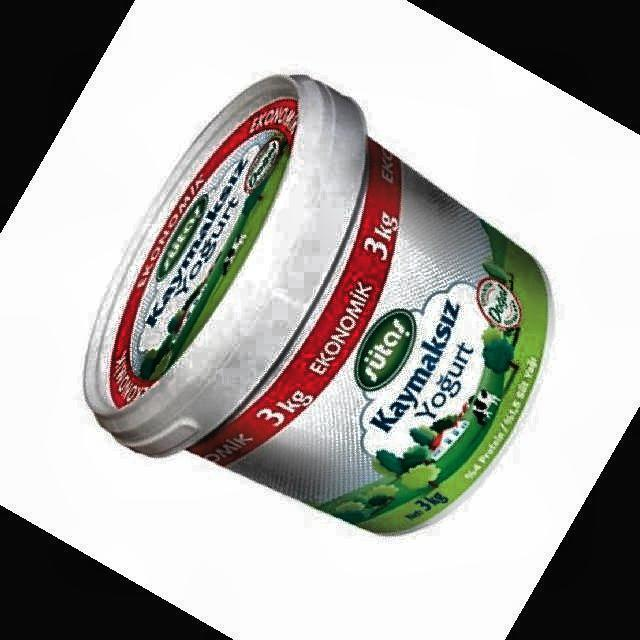plastic: (85, 76, 549, 534)
